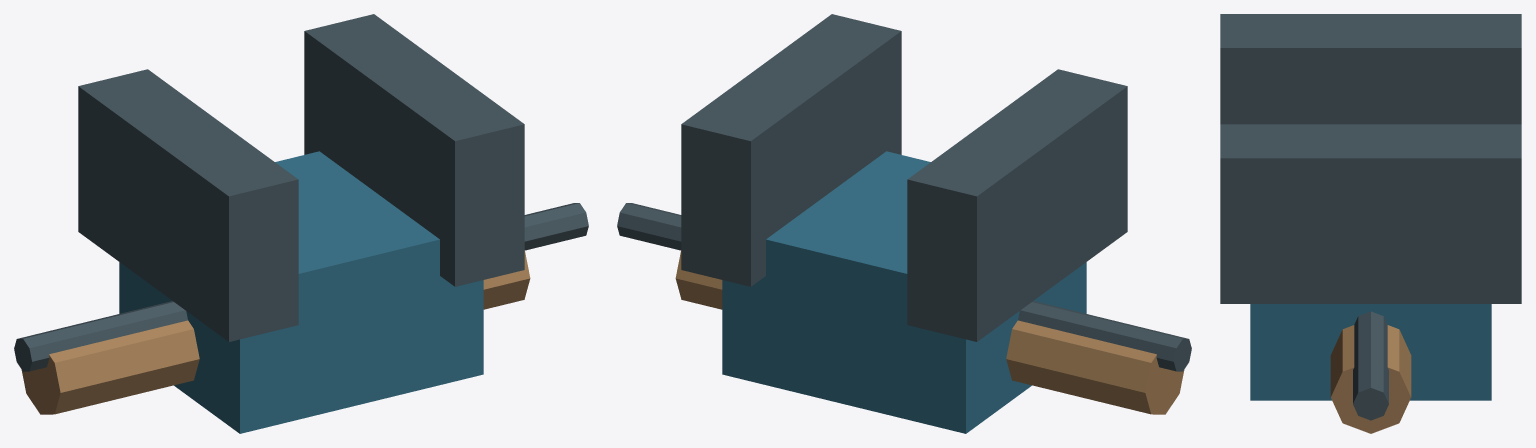
The model's file is set_masonry_chisel.glb.
3 views of the same model, side by side, from view 1: azimuth 30°, elevation 25°; view 2: azimuth 150°, elevation 25°; view 3: azimuth 270°, elevation 25° (orthographic).
Visible parts, largest first — view 1: set_masonry_chisel; view 2: set_masonry_chisel; view 3: set_masonry_chisel.
Part boxes in pixels (bbox=[...]): set_masonry_chisel: bbox=[14, 14, 588, 433]; set_masonry_chisel: bbox=[617, 14, 1191, 433]; set_masonry_chisel: bbox=[1220, 14, 1521, 433].
Size of the model in its own units: 0.32 by 0.14 by 0.15.
